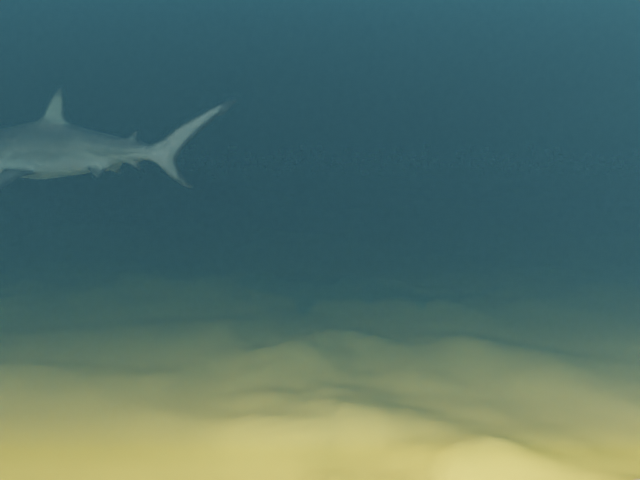Carribean Shark.001: (0, 88, 236, 191)
